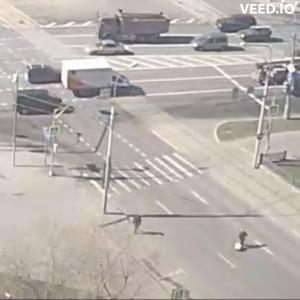car: (62, 58, 134, 100), (100, 12, 168, 44), (17, 89, 71, 118), (90, 40, 136, 57), (195, 31, 227, 55), (28, 65, 63, 84), (218, 15, 259, 30), (239, 27, 274, 44)
